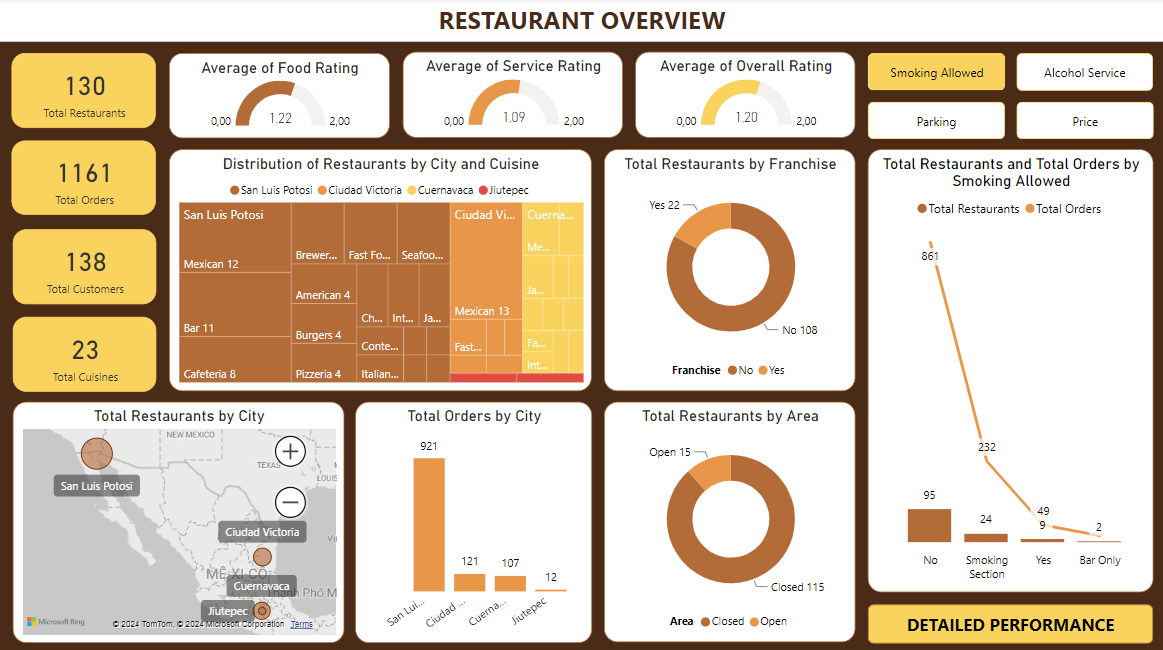

The page's visual inventory and layout, read from the dashboard file:
{"tool":"powerbi","page":{"name":"Restaurant Overview","canvas":[1280,720],"ordinal":0},"visuals":[{"type":"shape","title":"Shape 1.''","box":[953.3,60.5,150.8,41],"z":0,"group":"g1"},{"type":"lineClusteredColumnComboChart","title":"Total Restaurants and Total Orders by Smoking Allowed","fields":{"Category":["restaurants.Smoking_Allowed"],"Y":["CountNonNull(restaurants.Restaurant_ID)"],"Y2":["facts.Total Orders"]},"box":[953.3,166.7,313.3,486.7],"z":0},{"type":"shape","title":"Shape 1.","box":[954.7,60.5,149.4,41],"z":1000,"group":"g1"},{"type":"shape","title":"Shape 2.''","box":[1116.6,60,150,41.5],"z":3000,"group":"g1"},{"type":"group","id":"g1","title":"Group 1","box":[953.3,60,313.3,95],"z":4000},{"type":"textbox","box":[0,0,1280.6,47.8],"z":5000},{"type":"card","fields":{"Values":["facts.Total No Orders"]},"box":[13.3,156.7,158.3,81.7],"z":5000,"group":"g2"},{"type":"shape","title":"Shape 3.''","box":[953.3,113.8,150.8,41],"z":5500,"group":"g1"},{"type":"card","fields":{"Values":["Count(ratings.Restaurant_ID)"]},"box":[13.3,60,158.3,82.2],"z":6000,"group":"g2"},{"type":"donutChart","title":"Total Restaurants by Franchise","fields":{"Category":["restaurants.Franchise"],"Y":["Count(restaurants.Restaurant ID)"]},"box":[664.1,166.6,276.1,265.4],"z":6000},{"type":"card","fields":{"Values":["Count(ratings.Consumer ID)"]},"box":[14.2,252.8,157.4,82.4],"z":7000,"group":"g2"},{"type":"donutChart","title":"Total Restaurants by Area","fields":{"Category":["restaurants.Area"],"Y":["CountNonNull(restaurants.Restaurant ID)"]},"box":[664.1,443.9,276.1,264.2],"z":7000},{"type":"treemap","title":"Distribution of Restaurants by City and Cuisine","fields":{"Group":["restaurants.City"],"Values":["Count(restaurants.Restaurant ID)"],"Details":["restaurant_cuisines.Cuisine"]},"box":[186.8,166.6,464.1,265.4],"z":8000},{"type":"card","fields":{"Values":["Count(restaurant_cuisines.Cuisine)"]},"box":[14.2,349.2,157.4,82.4],"z":8000,"group":"g2"},{"type":"clusteredColumnChart","title":"Total Orders by City","fields":{"Y":["facts.Total Orders"],"Category":["restaurants.City"]},"box":[391.7,443.3,260,265],"z":9000},{"type":"shape","title":"Shape 4.''","box":[1116.3,113.8,150.8,41],"z":9500,"group":"g1"},{"type":"map","title":"Total Restaurants by City","fields":{"Category":["restaurants.City"],"Size":["Count(restaurants.Restaurant ID)"]},"box":[15,443.3,364,265],"z":10000},{"type":"shape","box":[953.3,665,313.3,43.3],"z":11000},{"type":"group","id":"g2","title":"Group 2","box":[13.3,60,158.3,371.7],"z":12000},{"type":"gauge","title":"Average of Food Rating","fields":{"Y":["Avg(ratings.Food Rating)"],"MinValue":["Min(ratings.Food Rating)1"],"MaxValue":["Max(ratings.Food Rating)2"]},"box":[186.7,60,242,93.3],"z":13000},{"type":"gauge","title":"Average of Service Rating","fields":{"Y":["Avg(ratings.Service Rating)"],"MaxValue":["Max(ratings.Service Rating)"],"MinValue":["Min(ratings.Service Rating)"]},"box":[442.7,59.5,241.6,94],"z":14000},{"type":"gauge","title":"Average of Overall Rating","fields":{"Y":["Avg(ratings.Overall Rating)"],"MaxValue":["Max(ratings.Overall Rating)"],"MinValue":["Min(ratings.Overall Rating)"]},"box":[698.6,59.5,241.6,94],"z":15000}]}

Visuals, with their boxes in screenshot pixels (x1, y1, x2, y2), scaled from the page's 1280x720 canvas onto the 1163x650 screenshot:
"Shape 1.''" shape: (866,55,1003,92)
"Total Restaurants and Total Orders by Smoking Allowed" lineClusteredColumnComboChart: (866,150,1151,590)
"Shape 1." shape: (867,55,1003,92)
"Shape 2.''" shape: (1015,54,1151,92)
"Group 1" group: (866,54,1151,140)
textbox: (0,0,1162,43)
card - facts.Total No Orders: (12,141,156,215)
"Shape 3.''" shape: (866,103,1003,140)
card - Count(ratings.Restaurant_ID): (12,54,156,128)
"Total Restaurants by Franchise" donutChart: (603,150,854,390)
card - Count(ratings.Consumer ID): (13,228,156,303)
"Total Restaurants by Area" donutChart: (603,401,854,639)
"Distribution of Restaurants by City and Cuisine" treemap: (170,150,591,390)
card - Count(restaurant_cuisines.Cuisine): (13,315,156,390)
"Total Orders by City" clusteredColumnChart: (356,400,592,639)
"Shape 4.''" shape: (1014,103,1151,140)
"Total Restaurants by City" map: (14,400,344,639)
shape: (866,600,1151,639)
"Group 2" group: (12,54,156,390)
"Average of Food Rating" gauge: (170,54,390,138)
"Average of Service Rating" gauge: (402,54,622,139)
"Average of Overall Rating" gauge: (635,54,854,139)
